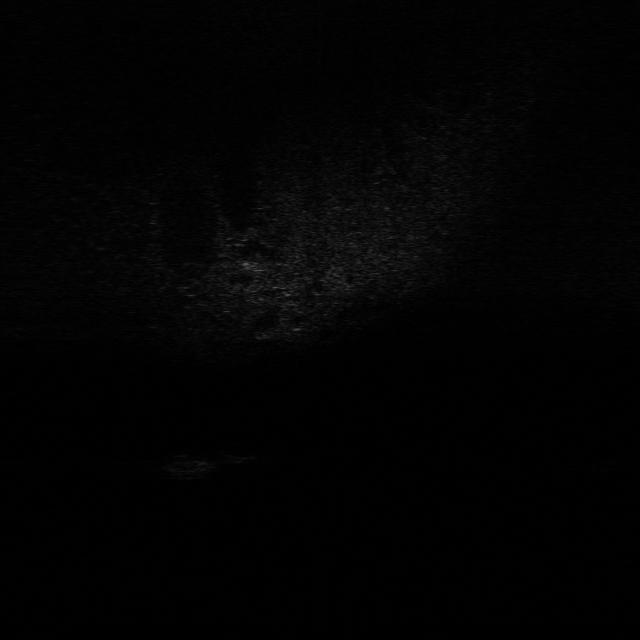ball: (213, 440, 258, 464)
circle cage: (150, 446, 218, 486)
